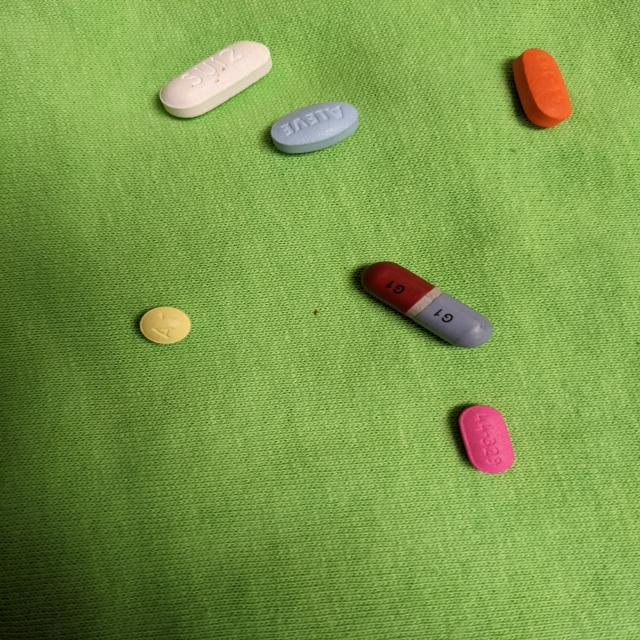non-organic waste: (358, 260, 496, 348), (159, 39, 274, 120), (510, 47, 573, 129), (269, 100, 360, 154), (458, 404, 516, 474), (138, 305, 193, 345)
